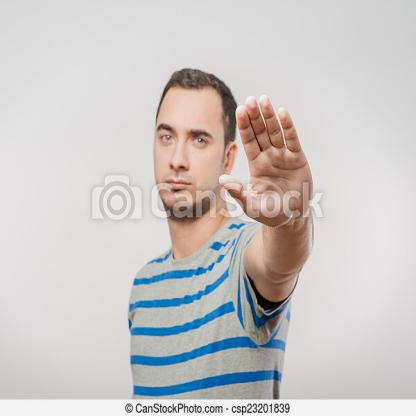Stop: (225, 95, 310, 221)
